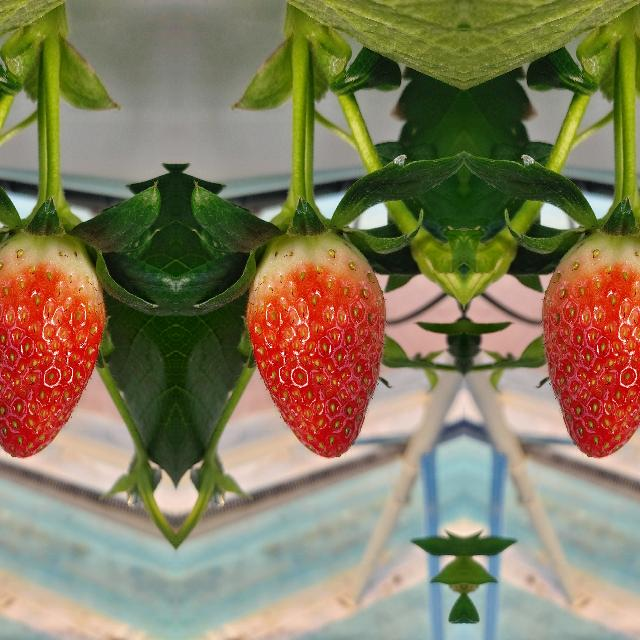Health_100: (244, 233, 386, 461), (0, 233, 106, 461), (539, 233, 640, 461)
